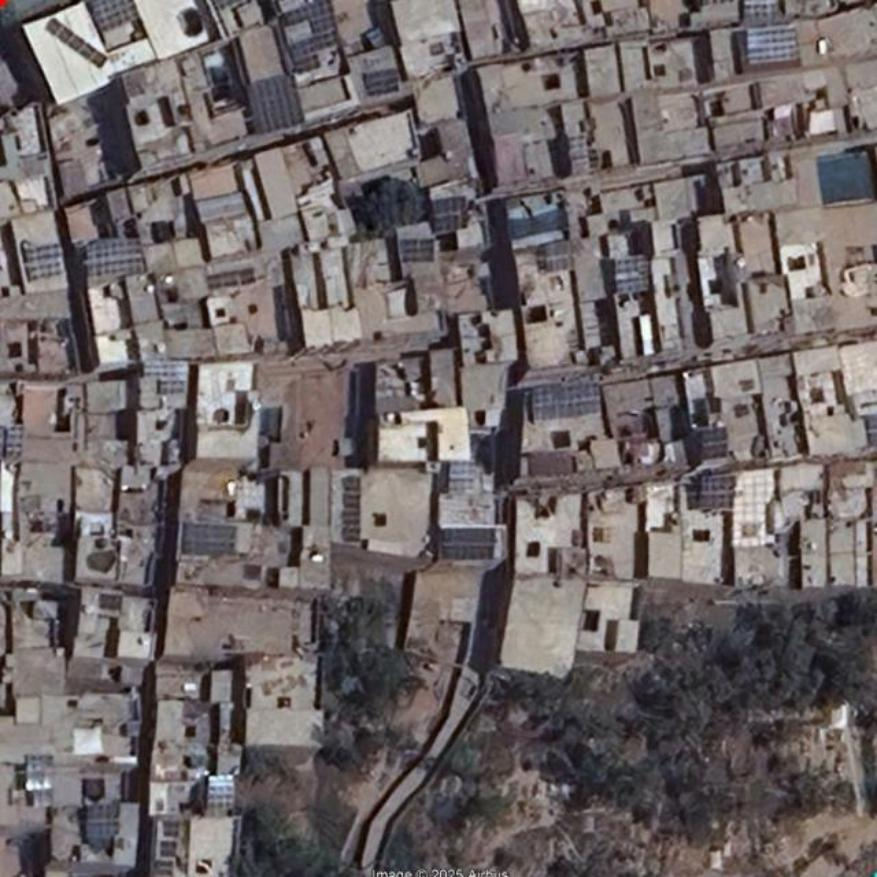Solarpanel: (244, 71, 304, 134), (280, 1, 338, 58), (44, 16, 108, 67), (531, 386, 602, 420), (84, 240, 143, 276), (748, 25, 798, 63), (442, 526, 496, 560), (83, 0, 137, 32), (183, 524, 234, 556), (144, 360, 188, 396), (339, 475, 361, 542), (22, 243, 62, 279), (614, 256, 651, 292), (698, 473, 735, 507), (430, 195, 463, 233), (362, 67, 399, 97), (27, 755, 56, 792), (206, 775, 235, 807), (699, 428, 726, 459), (400, 240, 434, 261), (545, 242, 571, 269)
